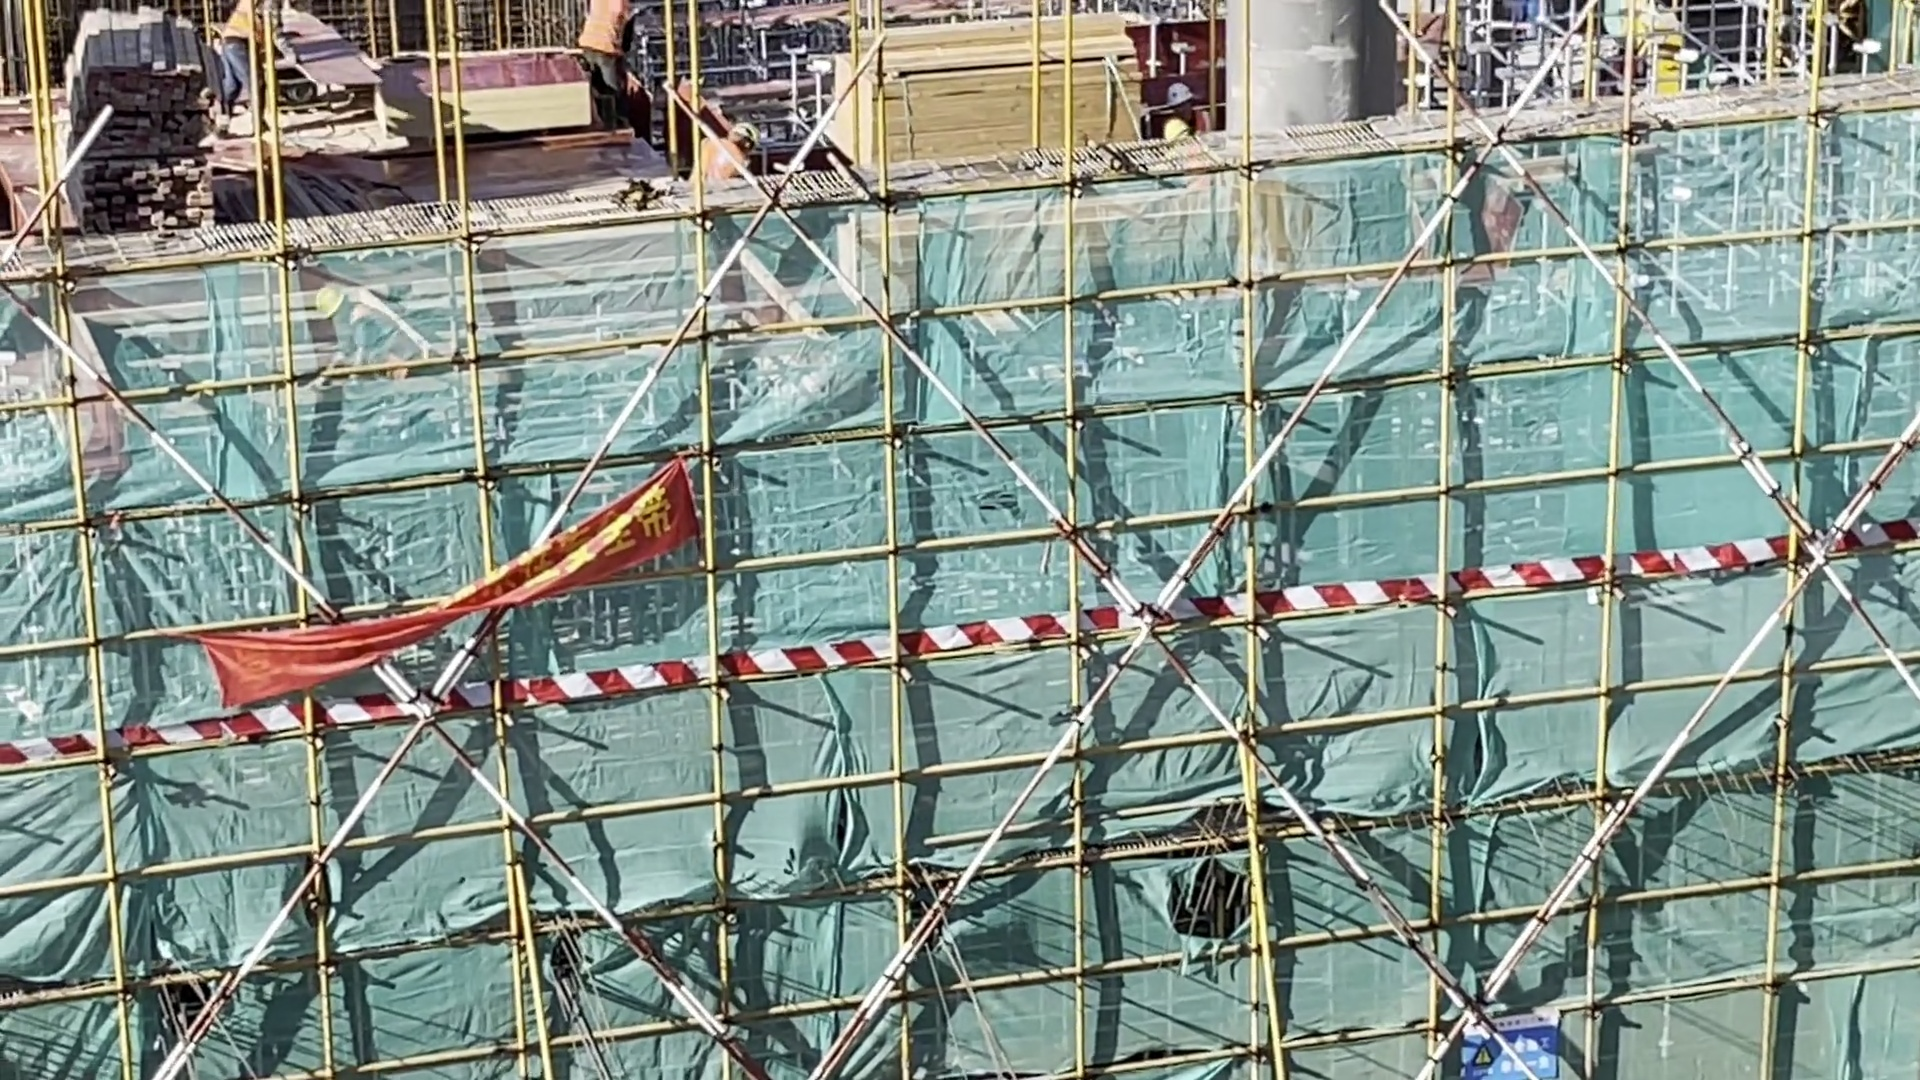board: (393, 52, 591, 135)
helmet: (313, 287, 343, 317), (1162, 83, 1192, 106), (736, 123, 763, 146), (1163, 123, 1190, 143)
person: (183, 1, 292, 123), (315, 279, 436, 380), (685, 104, 769, 233), (580, 1, 639, 137), (1159, 78, 1217, 136)
slogan: (282, 502, 682, 669), (1458, 1008, 1572, 1080)
vest: (344, 293, 419, 355), (695, 140, 740, 184), (217, 4, 267, 45), (587, 4, 624, 52), (1192, 111, 1213, 136)
wood: (853, 194, 1237, 304), (823, 43, 1165, 155), (68, 16, 223, 149), (80, 151, 215, 239)
